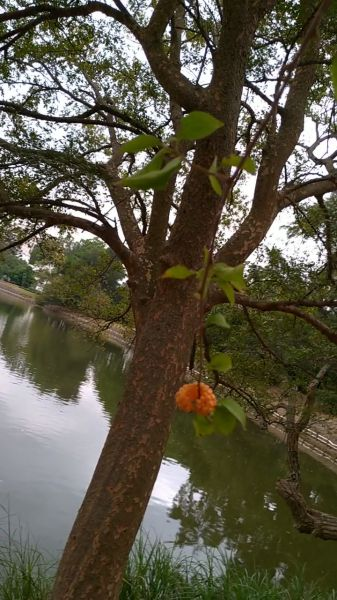eggs: (170, 375, 226, 422)
